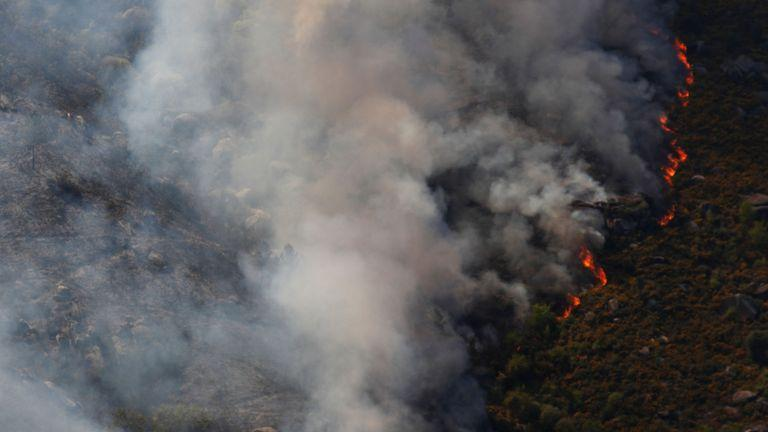smoke: (199, 6, 646, 398)
